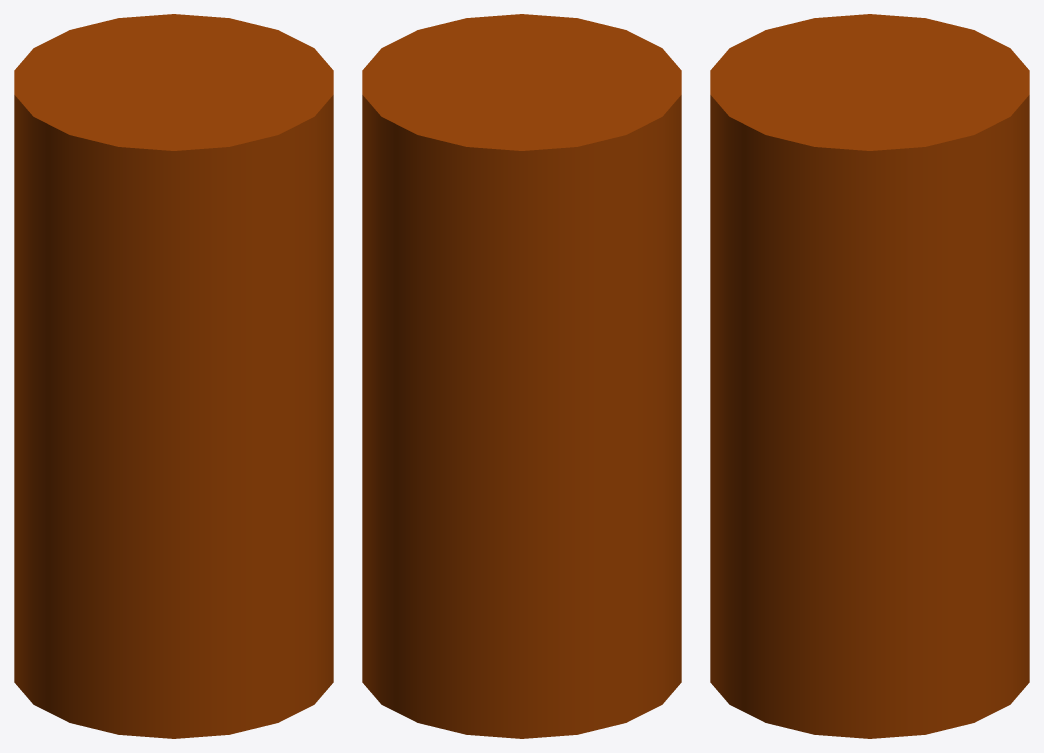
Rendered from GearAxis.FBX.
The picture shows the model from 3 angles, left to right: view 1: azimuth 30°, elevation 25°; view 2: azimuth 150°, elevation 25°; view 3: azimuth 270°, elevation 25°; orthographic projection.
Visible parts, largest first — view 1: Cylinder005; view 2: Cylinder005; view 3: Cylinder005.
Part boxes in pixels (bbox=[...]): Cylinder005: bbox=[14, 14, 333, 738]; Cylinder005: bbox=[362, 14, 681, 738]; Cylinder005: bbox=[710, 14, 1029, 738].
Size of the model in its own units: 5.64 by 11.27 by 5.55.
